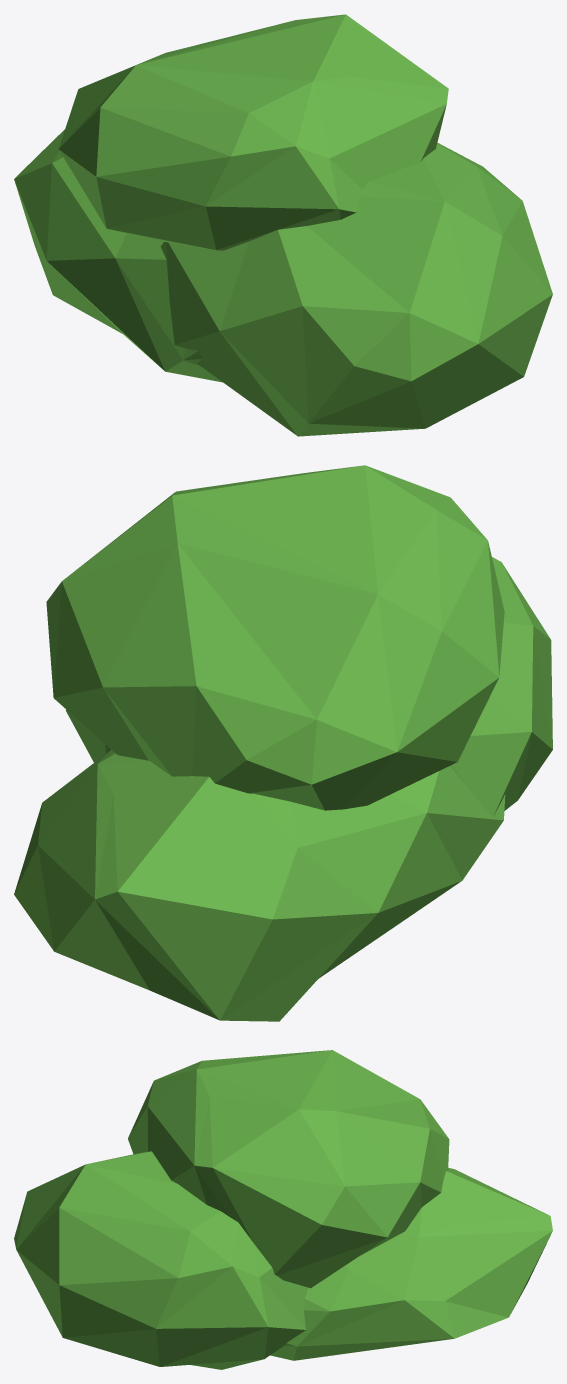
Rendered from Buisson_Petit.fbx.
3 renders of one model, top to bottom at view 1: azimuth 30°, elevation 25°; view 2: azimuth 150°, elevation 25°; view 3: azimuth 270°, elevation 25°, orthographic. The views are drawn at different scales.
Visible parts, largest first — view 1: pPlatonic13, pPlatonic15, pPlatonic14; view 2: pPlatonic15, pPlatonic14, pPlatonic13; view 3: pPlatonic15, pPlatonic13, pPlatonic14.
Part boxes in pixels (<box>): pPlatonic13: <box>160,142,552,436</box>; pPlatonic15: <box>58,14,448,250</box>; pPlatonic14: <box>14,129,222,382</box>; pPlatonic15: <box>46,465,504,810</box>; pPlatonic14: <box>14,749,505,1021</box>; pPlatonic13: <box>66,557,552,817</box>; pPlatonic15: <box>128,1050,449,1288</box>; pPlatonic13: <box>14,1151,308,1369</box>; pPlatonic14: <box>270,1168,552,1360</box>.
Bounding box in the file's own units: 4.17 × 3.52 × 6.49.
